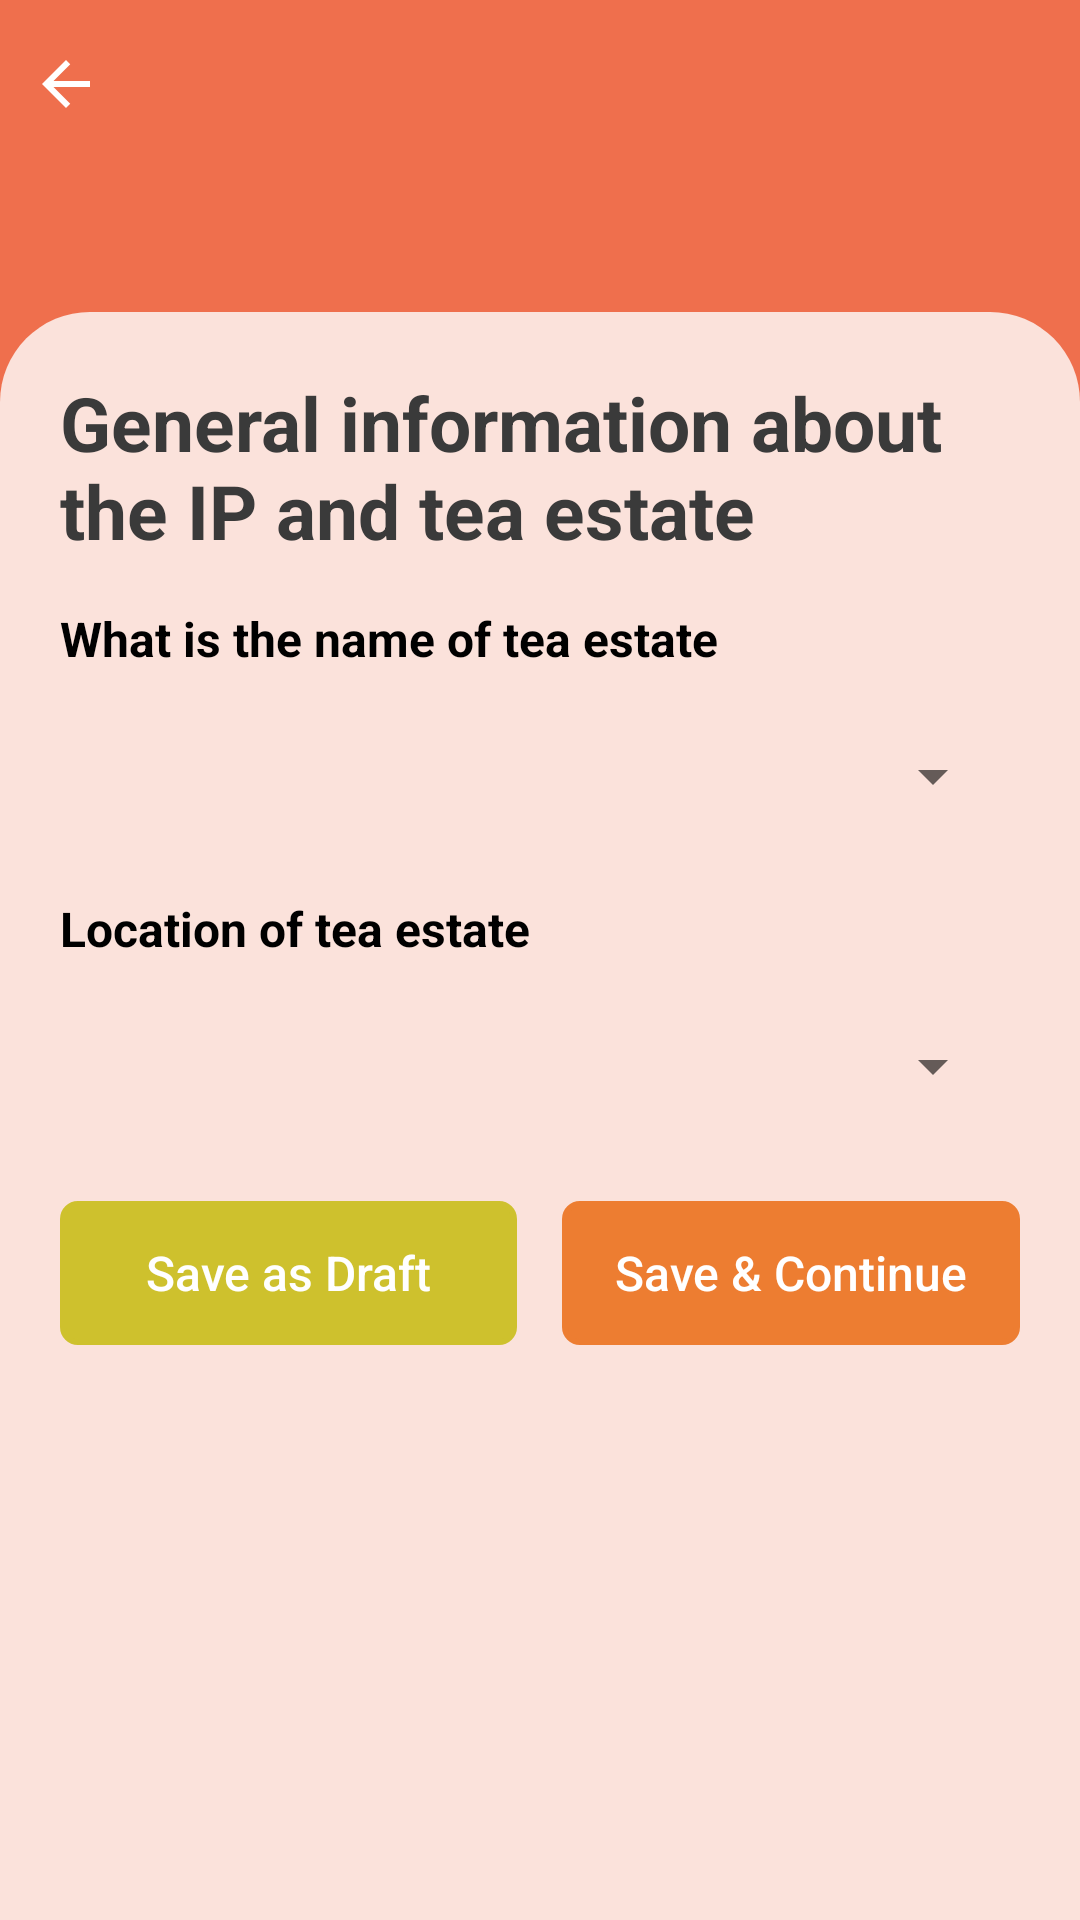

Icons on this 1080 x 1920 Android screen, each with the point to tap as [x,y]:
arrow back: [66,84]
